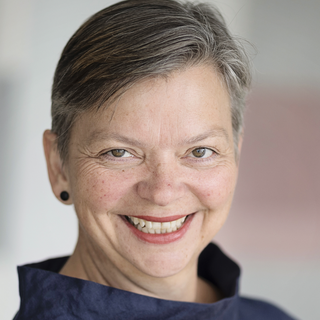eye: (94, 143, 143, 163), (179, 142, 220, 162)
